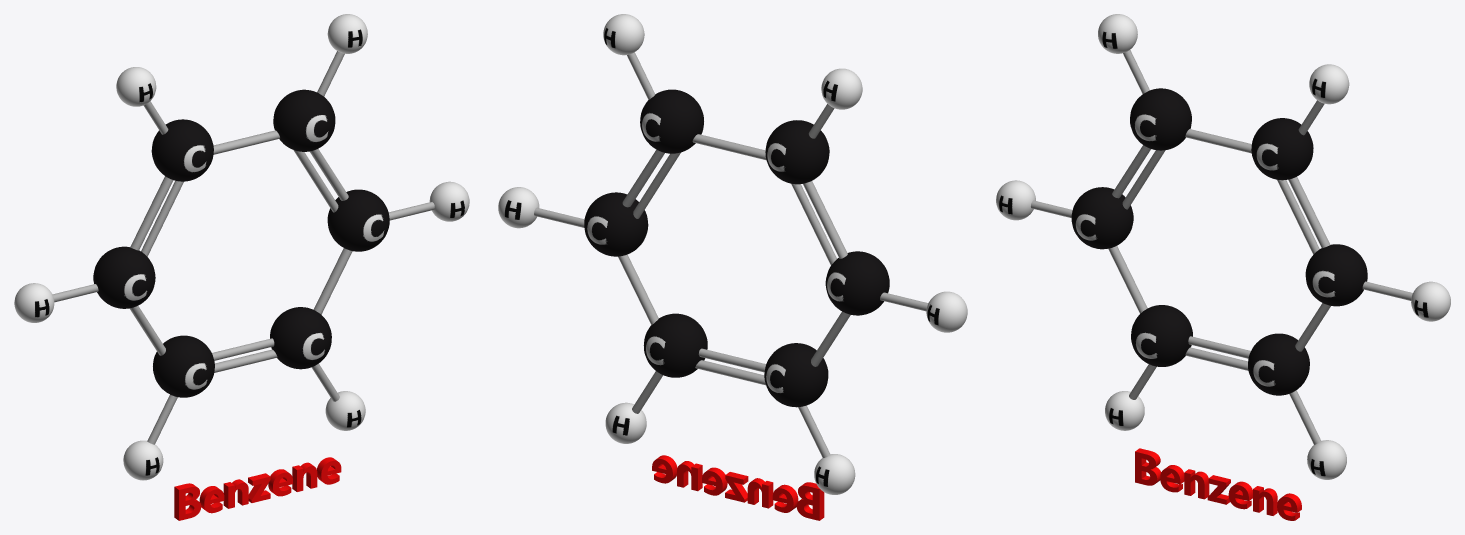
File: benzene.gltf
3 views of the same model, side by side, from view 1: azimuth 30°, elevation 25°; view 2: azimuth 150°, elevation 25°; view 3: azimuth 330°, elevation 25° (orthographic). The views are drawn at different scales.
Visible parts, largest first — view 1: pSphere9, pTorus3, group14_pSphere8, Extrude; view 2: pSphere9, pTorus3, group14_pSphere8, Extrude; view 3: pSphere9, pTorus3, group14_pSphere8, Extrude.
Part boxes in pixels (x1=…): pSphere9: x1=93, y1=89, x2=389, y2=397; pTorus3: x1=52, y1=51, x2=434, y2=444; group14_pSphere8: x1=14, y1=14, x2=469, y2=480; Extrude: x1=174, y1=457, x2=341, y2=520; pSphere9: x1=584, y1=89, x2=889, y2=407; pTorus3: x1=534, y1=52, x2=928, y2=457; group14_pSphere8: x1=498, y1=14, x2=967, y2=494; Extrude: x1=652, y1=455, x2=824, y2=520; pSphere9: x1=1071, y1=88, x2=1367, y2=395; pTorus3: x1=1031, y1=50, x2=1412, y2=444; group14_pSphere8: x1=996, y1=14, x2=1450, y2=479; Extrude: x1=1135, y1=448, x2=1301, y2=520.
Bounding box in the file's own units: 19.49 × 18.71 × 2.33.
4 materials, 2 textured.
